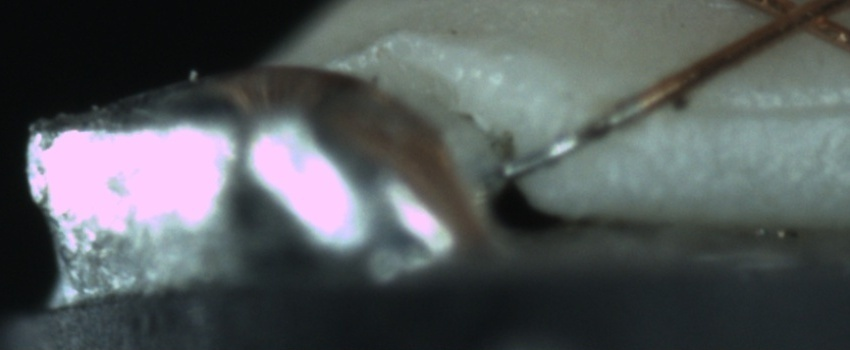CL: (757, 0, 844, 44)
DL: (671, 76, 850, 145)
TS: (498, 102, 645, 177)
